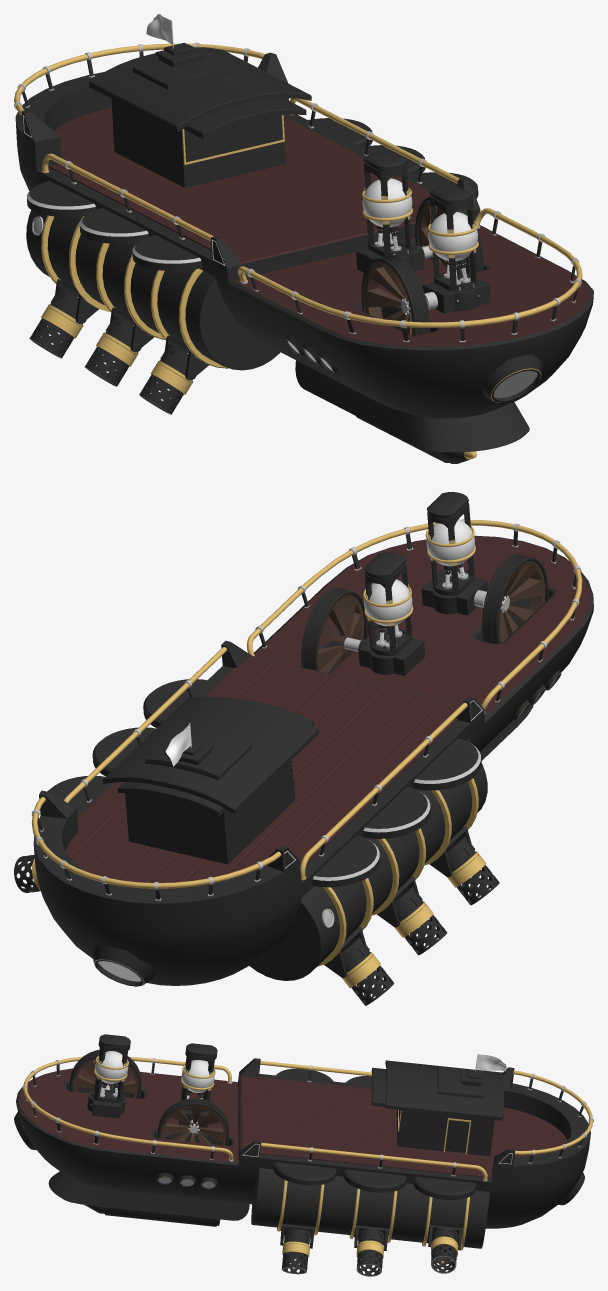
File: Ship.fbx
3 views of the same model, one above another, from view 1: azimuth 30°, elevation 25°; view 2: azimuth 150°, elevation 25°; view 3: azimuth 270°, elevation 25° (orthographic). The views are drawn at different scales.
Parts seen in each view (by area): view 1: Circle.004, Circle.008, Circle.050, Circle.007, Circle.041, Circle.049, Circle.092, Circle.065, Circle.048, Circle.003, Icosphere.001, Icosphere (+7 smaller); view 2: Circle.004, Circle.008, Circle.007, Circle.050, Circle.041, Circle.049, Circle.065, Circle.092, Circle.048, Circle.010, Circle.088, Circle.009 (+9 smaller); view 3: Circle.004, Circle.008, Circle.006, Circle.007, Circle.002, Circle.041, Circle.092, Circle.048, Circle.010, Circle.065, Cylinder.026, Icosphere.001 (+8 smaller).
Part boxes in pixels (box(x1,y1,x2,y2)): Circle.004: box(14, 42, 593, 452); Circle.008: box(49, 108, 430, 263); Circle.050: box(26, 210, 280, 370); Circle.007: box(89, 42, 311, 139); Circle.041: box(111, 99, 285, 187); Circle.049: box(29, 279, 208, 414); Circle.092: box(238, 208, 582, 342); Circle.065: box(361, 255, 437, 335); Circle.048: box(42, 98, 459, 240); Circle.003: box(482, 354, 542, 402); Icosphere.001: box(428, 212, 477, 260); Icosphere: box(362, 178, 412, 227); Circle.004: box(31, 535, 593, 985); Circle.008: box(65, 656, 460, 889); Circle.007: box(103, 696, 319, 816); Circle.050: box(249, 763, 487, 980); Circle.041: box(125, 759, 295, 864); Circle.049: box(324, 826, 499, 1005); Circle.065: box(474, 554, 548, 643); Circle.092: box(247, 519, 582, 714); Circle.048: box(63, 647, 467, 880); Circle.010: box(317, 594, 364, 673); Circle.088: box(92, 945, 155, 986); Circle.009: box(301, 588, 368, 670); Circle.004: box(16, 1058, 593, 1228); Circle.008: box(240, 1076, 567, 1177); Circle.006: box(251, 1167, 489, 1250); Circle.007: box(371, 1060, 503, 1120); Circle.002: box(280, 1223, 462, 1276); Circle.041: box(396, 1110, 494, 1156); Circle.092: box(22, 1056, 233, 1161); Circle.048: box(260, 1061, 487, 1181); Circle.010: box(161, 1105, 226, 1145); Circle.065: box(69, 1050, 141, 1098); Cylinder.026: box(85, 1205, 220, 1226); Icosphere.001: box(95, 1051, 128, 1083).
Size of the model in its own units: 2928 by 2277 by 5915.
